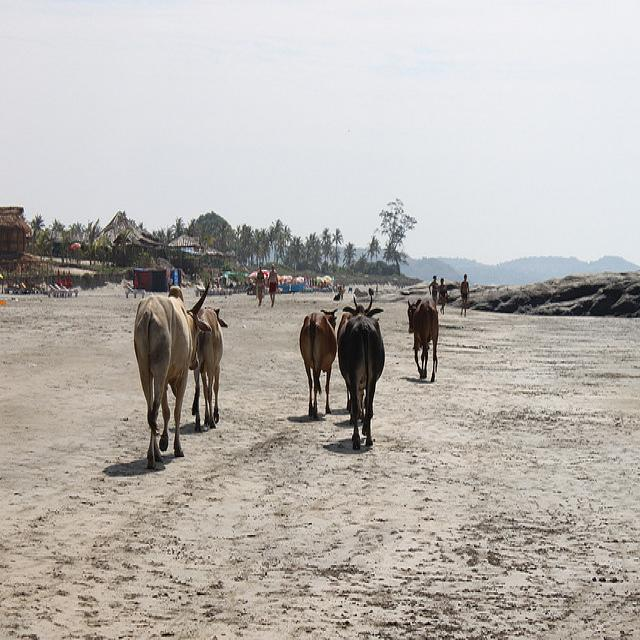cow: (132, 279, 208, 466), (337, 294, 385, 447), (298, 303, 337, 417), (191, 307, 222, 427), (405, 295, 437, 381)
